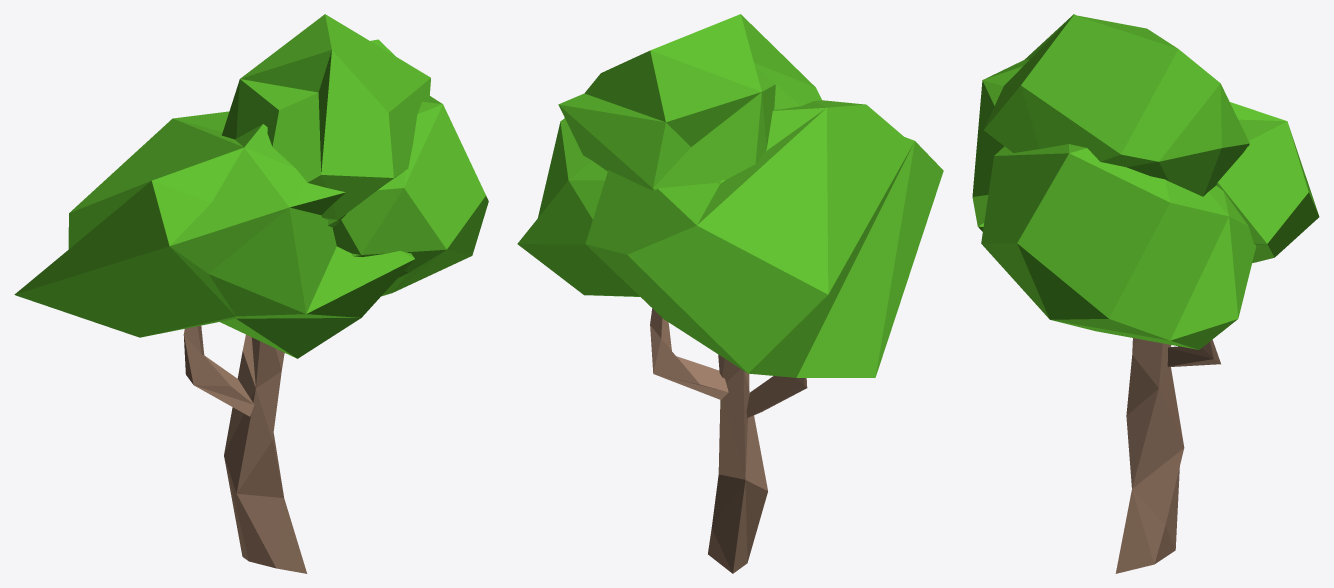
File: Tree01.fbx
3 renders of one model, left to right at view 1: azimuth 30°, elevation 25°; view 2: azimuth 150°, elevation 25°; view 3: azimuth 270°, elevation 25°, orthographic. The views are drawn at different scales.
Parts seen in each view (by area): view 1: Cube.003; view 2: Cube.003; view 3: Cube.003.
Boxes of the visible parts, x1,y1,x2,y2 form: Cube.003: [14, 14, 488, 573]; Cube.003: [517, 14, 943, 573]; Cube.003: [972, 14, 1319, 573].
Size of the model in its own units: 570 by 728 by 408.
